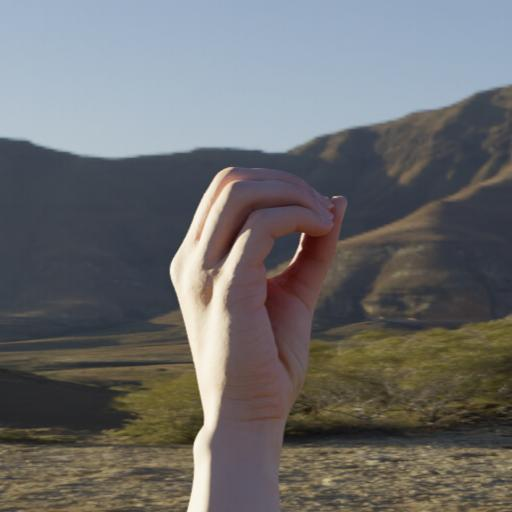O: (154, 156, 362, 440)
